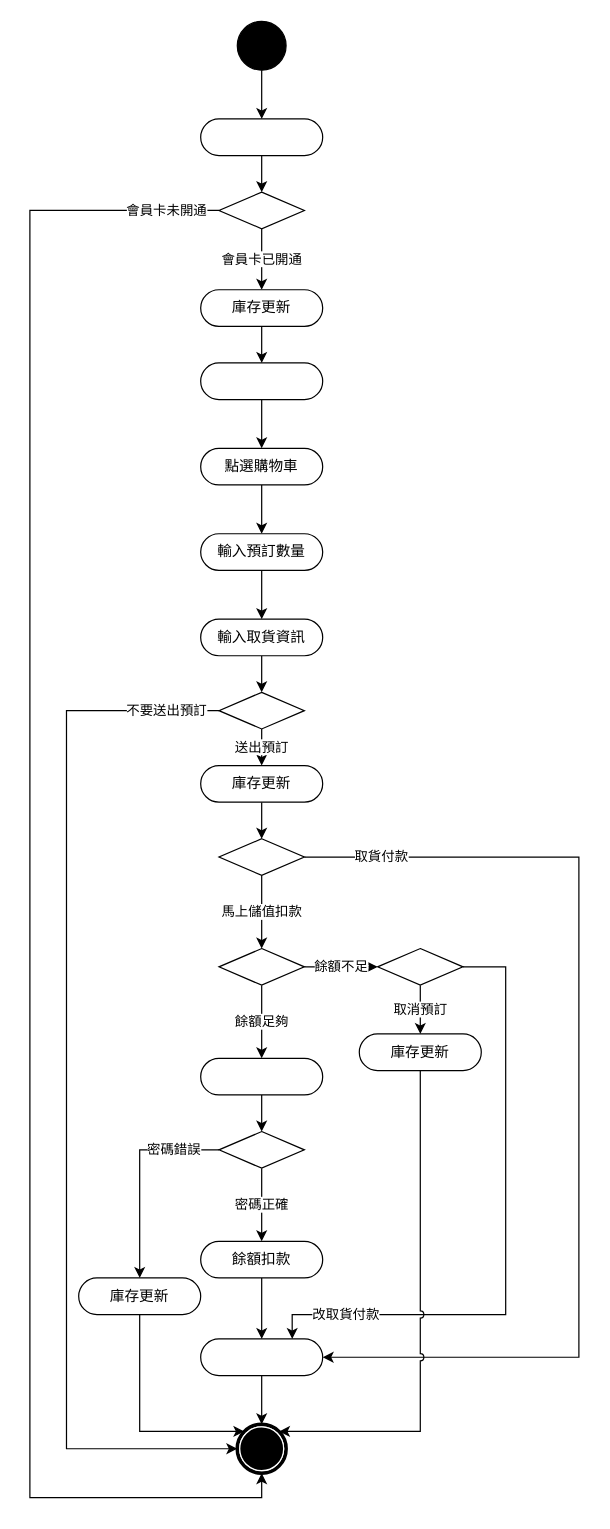
Some shapes in this 610 by 1529 pixel diagram are drawn without their labels. The box of each missing label's shape, as (x1, y1, x2, y2) in pixels:
將商品加到購物車: (199, 362, 323, 400)
系統儲存: (199, 1338, 323, 1376)
輸入密碼: (199, 1057, 323, 1095)
點選商品資訊: (199, 118, 323, 156)
